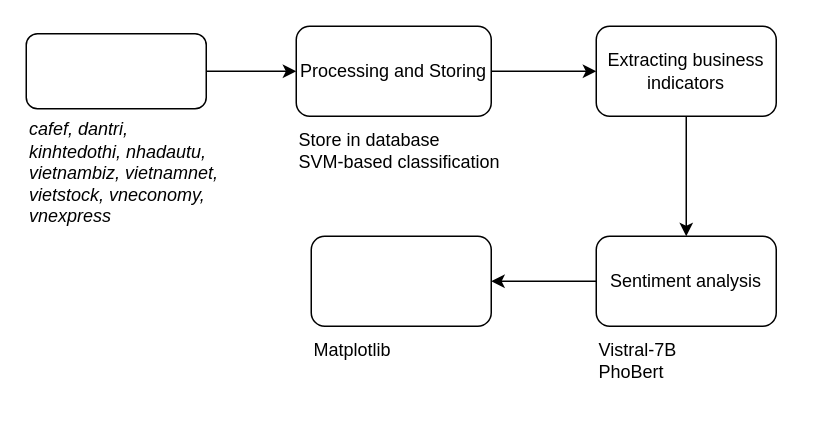
The diagram is 833 pixels wide and 428 high, and some of its shapes have lost their labels. Here are the shapes that lost their labels. From the top down, the centre of each, then its label:
the point at 115,70: Data scraping
the point at 400,280: Visualization
